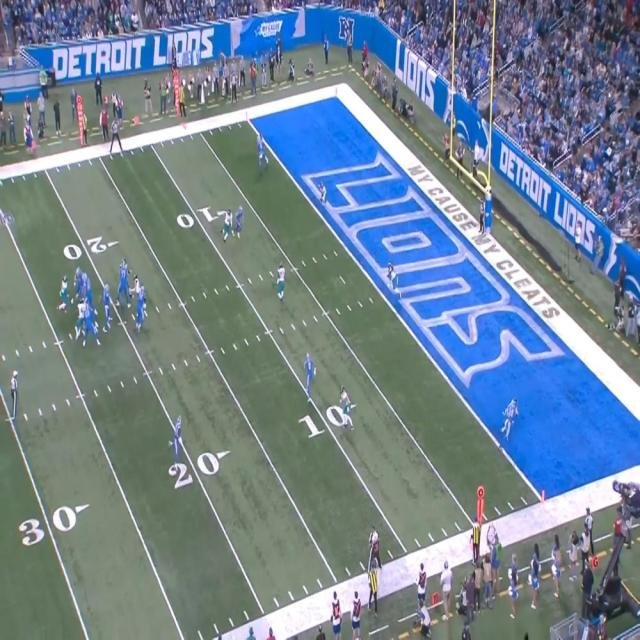db: (388, 261, 397, 298), (224, 208, 232, 240), (321, 180, 327, 210), (506, 398, 516, 414), (256, 133, 266, 147)
lb: (342, 386, 352, 430), (278, 262, 284, 302)
qb: (102, 286, 114, 330)
skill: (303, 353, 315, 403), (174, 416, 181, 473), (256, 142, 266, 174), (510, 403, 517, 441), (235, 205, 244, 232)
